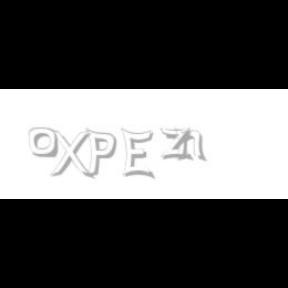E: (120, 128, 153, 180)
P: (85, 128, 117, 178)
X: (48, 128, 92, 180)
n: (174, 128, 208, 162)
o: (28, 128, 58, 158)
z: (159, 128, 195, 160)
